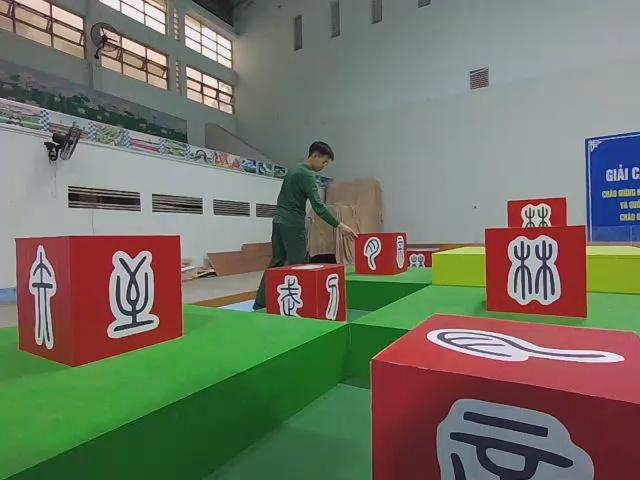R2 Fake: (367, 310, 640, 480), (12, 232, 185, 367), (481, 222, 591, 321), (263, 260, 347, 332), (503, 194, 570, 240), (353, 228, 409, 279)
